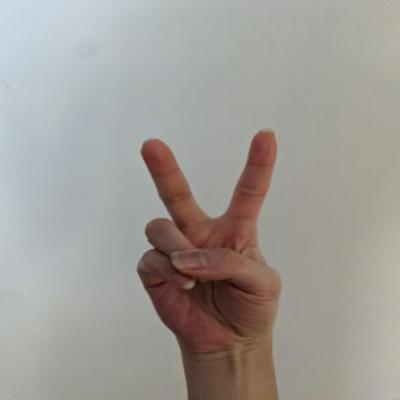hand: (133, 126, 287, 361)
